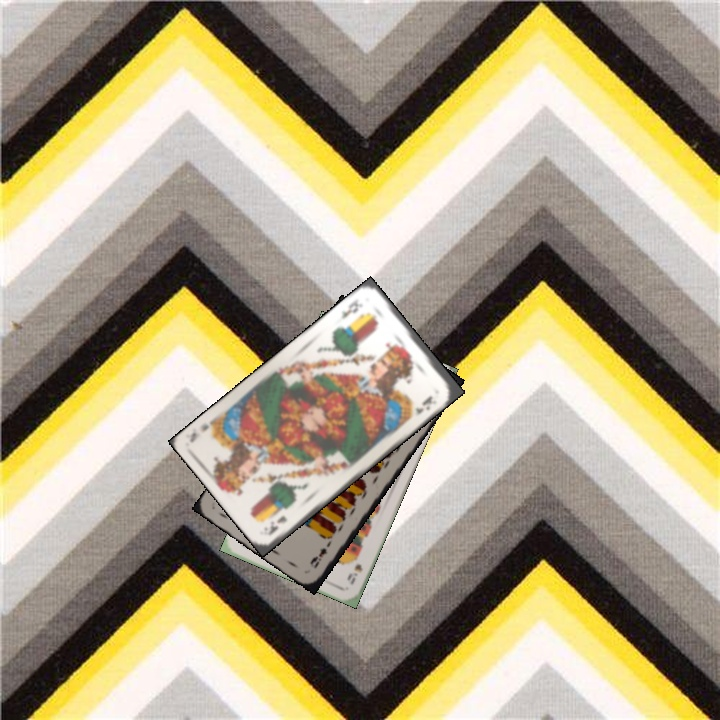E9: (306, 535, 334, 571)
EK: (337, 295, 365, 322), (264, 512, 289, 538)
S9: (343, 560, 365, 587)
